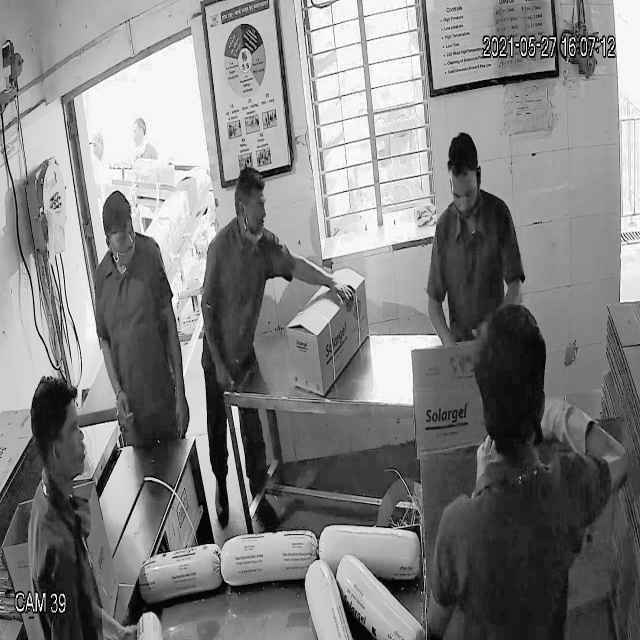Sin_gafas: (444, 176, 485, 209), (103, 221, 136, 253)
